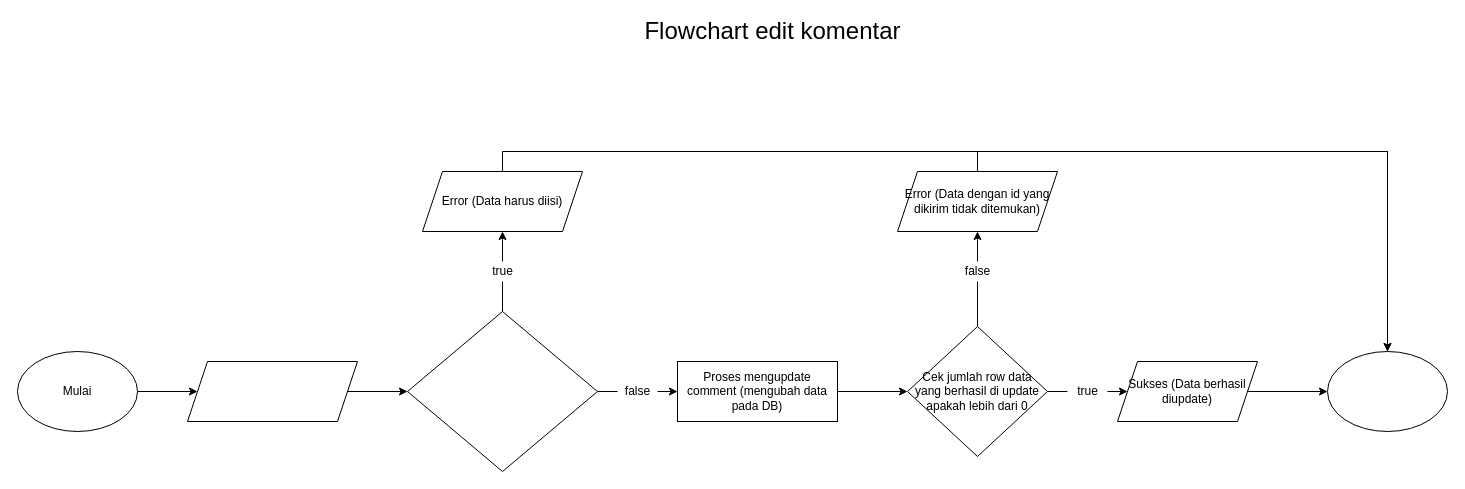
This 1465x489 diagram has some shape labels left out. The centre of each missing label's shape, as x and y in pixels:
"Cek input data (!id, !recipe_id, !comment_text, !user_id" belongs at pixel 502 391.
"Input data (id, recipe_id, comment_text, user_id)" belongs at pixel 272 391.
"Selesai" belongs at pixel 1387 391.
